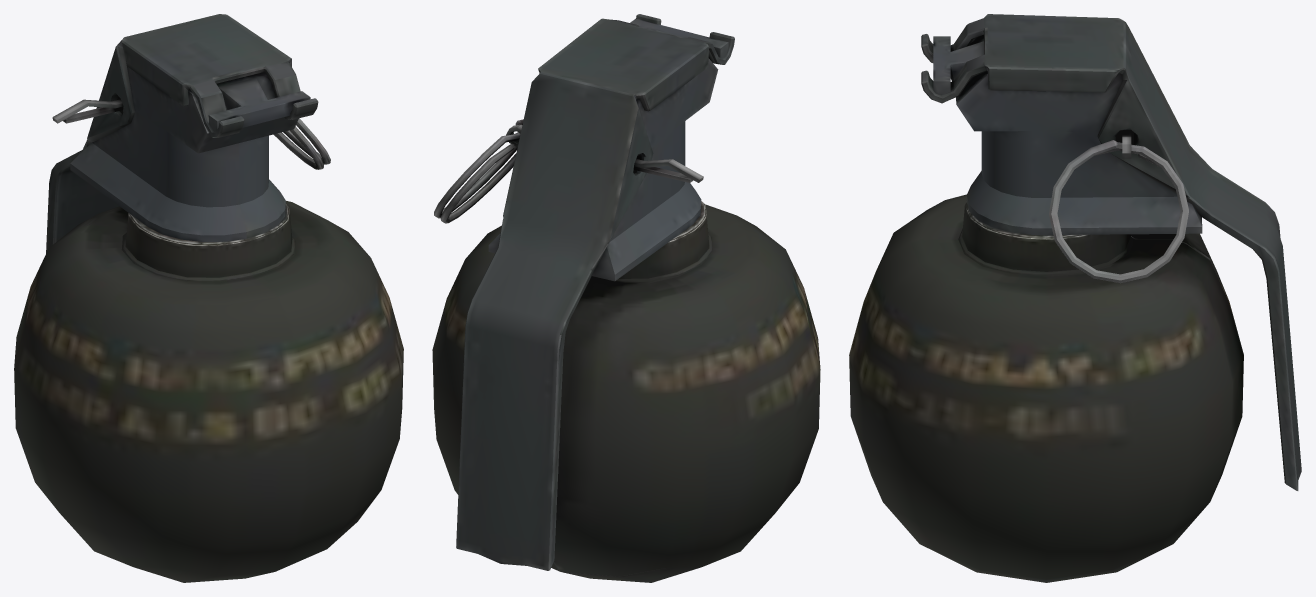
The model's file is grenade.glb.
The picture shows the model from 3 angles, left to right: view 1: azimuth 30°, elevation 25°; view 2: azimuth 150°, elevation 25°; view 3: azimuth 270°, elevation 25°; orthographic projection. The views are drawn at different scales.
Visible parts, largest first — view 1: Cube.002; view 2: Cube.002; view 3: Cube.002.
Part boxes in pixels (left/top/right/bottom): Cube.002: left=14, top=14, right=403, bottom=582; Cube.002: left=432, top=14, right=820, bottom=582; Cube.002: left=849, top=14, right=1301, bottom=582.
Size of the model in its own units: 1.42 by 2.07 by 1.63.
Materials: 1 (1 with a texture image).
